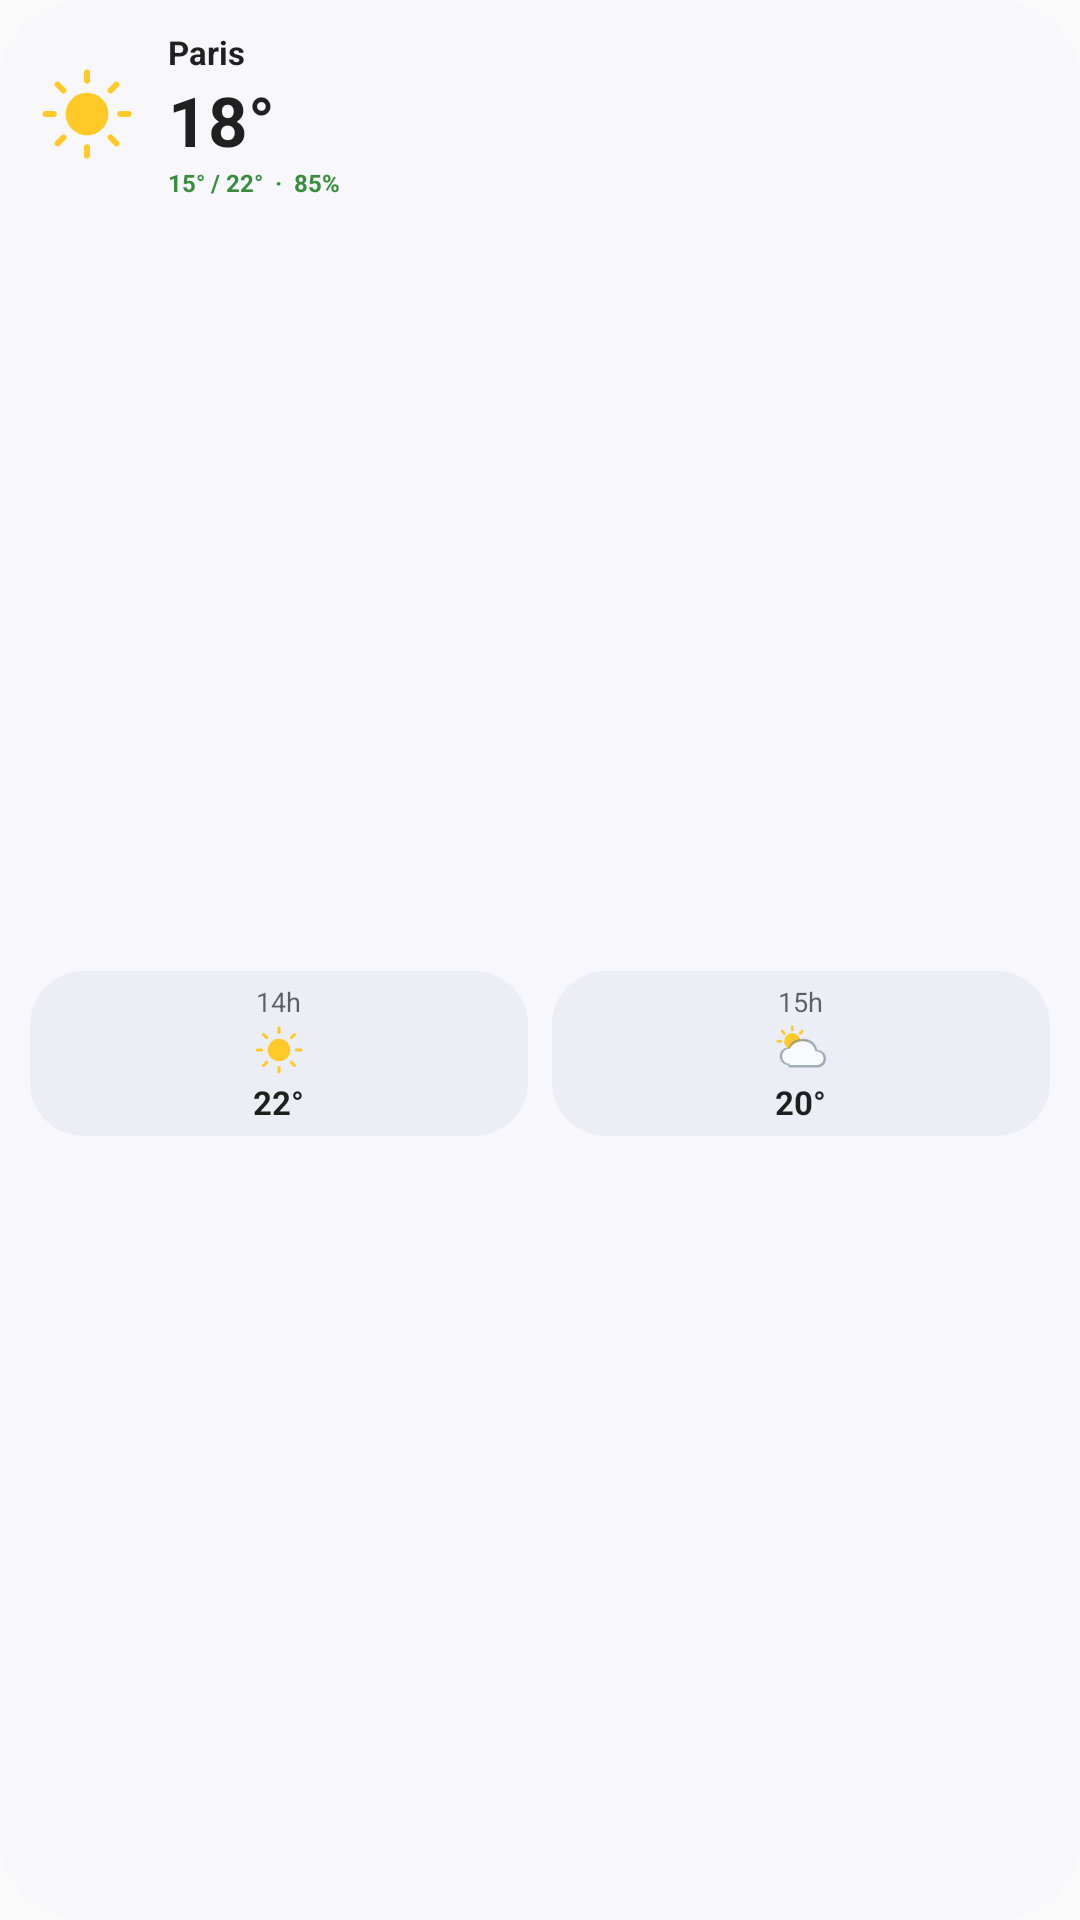

Named icons in this screenshot (1080px x 1920px) and their bounding boxes, detection(x1, y1, x2, y2):
widget weather partly: detection(776, 1025, 826, 1068)
widget weather sun: detection(42, 69, 132, 159), detection(255, 1026, 303, 1074)
